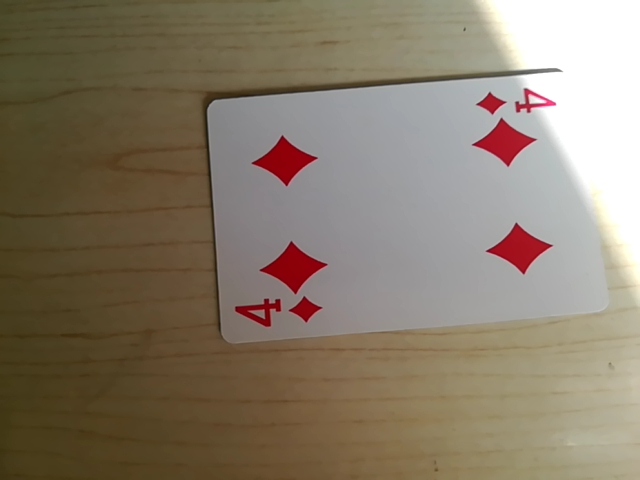fk 4: (230, 292, 324, 337), (467, 79, 565, 120)
